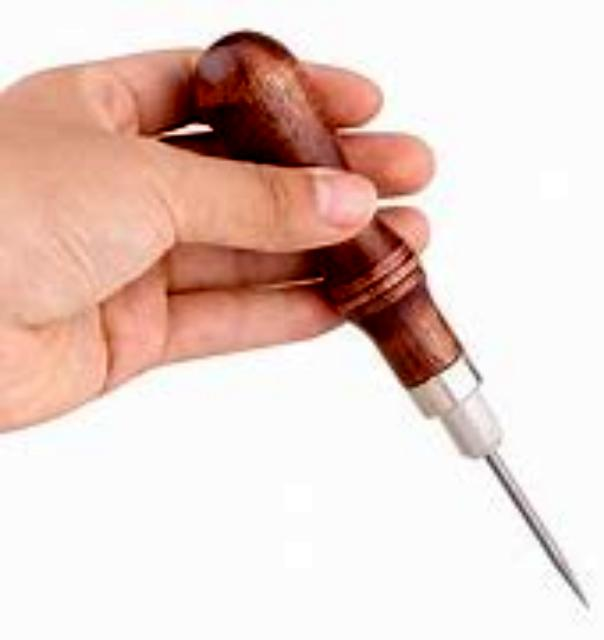ice pick: (182, 29, 594, 615)
